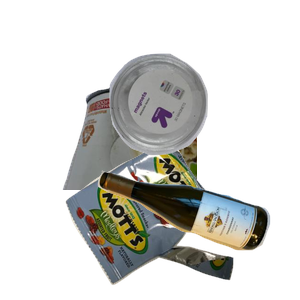glass: (95, 168, 300, 300)
metal: (60, 82, 300, 262)
plastic: (107, 51, 300, 199)
trash: (63, 137, 289, 300)
